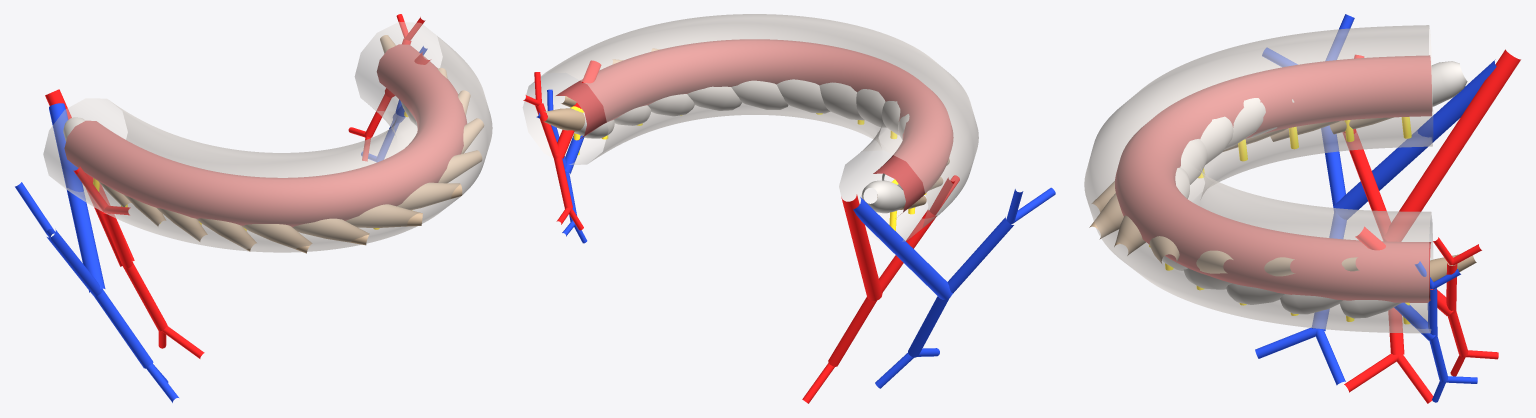
File: maxilla_anatomy_color.glb
3 renders of one model, left to right at view 1: azimuth 30°, elevation 25°; view 2: azimuth 150°, elevation 25°; view 3: azimuth 270°, elevation 25°, orthographic. The views are drawn at different scales.
Parts seen in each view (by area): view 1: MaxillaBone, Gingiva, Root (×7), Vein_0, Vein_1 (×2), Artery_1 (×2), Artery_0, Vein_2; view 2: MaxillaBone, Gingiva, Crown (×9), Vein_0, Vein_1 (×2), Artery_1 (×2), Artery_0, Root, AnteriorArtery_0, AnteriorArtery_1; view 3: MaxillaBone, Gingiva, Crown (×8), Root (×8), Artery_0, Vein_0, Artery_1 (×2), Vein_2 (×3), Vein_1 (×2), Artery_2 (×2), AnteriorArtery_1 (×2), AnteriorVein_1 (×2) (+2 smaller).
Boxes of the visible parts, box(x1,y1,x2,y2) form: MaxillaBone: box(43, 22, 492, 252); Gingiva: box(64, 44, 467, 227); Root (×7): box(157, 150, 482, 253); Vein_0: box(49, 103, 105, 292); Vein_1 (×2): box(47, 229, 153, 368); Artery_1 (×2): box(101, 212, 167, 331); Artery_0: box(45, 89, 134, 266); Vein_2: box(15, 182, 53, 234); MaxillaBone: box(523, 14, 978, 241); Gingiva: box(556, 39, 953, 214); Crown (×9): box(614, 79, 905, 213); Vein_0: box(853, 197, 952, 299); Vein_1 (×2): box(908, 217, 1013, 357); Artery_1 (×2): box(828, 210, 936, 366); Artery_0: box(841, 194, 882, 300); Root: box(544, 108, 585, 131); AnteriorArtery_0: box(556, 60, 601, 158); AnteriorArtery_1: box(535, 103, 560, 158); MaxillaBone: box(1084, 25, 1432, 333); Gingiva: box(1115, 55, 1432, 302); Crown (×8): box(1180, 61, 1467, 318); Root (×8): box(1089, 117, 1476, 281); Artery_0: box(1383, 49, 1520, 241); Vein_0: box(1334, 59, 1496, 219); Artery_1 (×2): box(1342, 129, 1404, 354); Vein_2 (×3): box(1255, 14, 1354, 385); Vein_1 (×2): box(1312, 126, 1346, 330); Artery_2 (×2): box(1344, 353, 1433, 403); AnteriorArtery_1 (×2): box(1446, 263, 1468, 356); AnteriorVein_1 (×2): box(1427, 288, 1447, 382).
Size of the model in its own units: 0.2555 by 0.1438 by 0.172.
